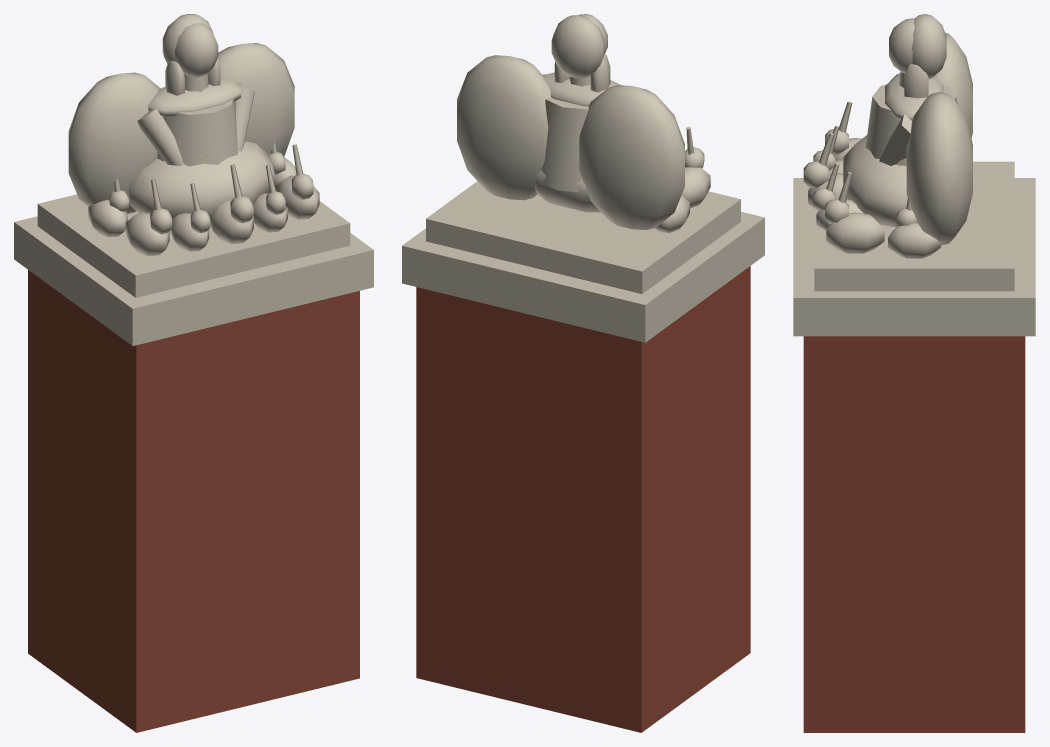
The model's file is kinderbrug-meisje-eekhoorns.glb.
The picture shows the model from 3 angles, left to right: view 1: azimuth 30°, elevation 25°; view 2: azimuth 150°, elevation 25°; view 3: azimuth 270°, elevation 25°; orthographic projection. The views are drawn at different scales.
Parts seen in each view (by area): view 1: kinderbrug-meisje-eekhoorns; view 2: kinderbrug-meisje-eekhoorns; view 3: kinderbrug-meisje-eekhoorns.
Boxes of the visible parts, box(x1,y1,x2,y2) form: kinderbrug-meisje-eekhoorns: box(14, 14, 373, 732); kinderbrug-meisje-eekhoorns: box(402, 14, 764, 732); kinderbrug-meisje-eekhoorns: box(793, 14, 1035, 732).
Size of the model in its own units: 1.35 by 3.46 by 1.15.
